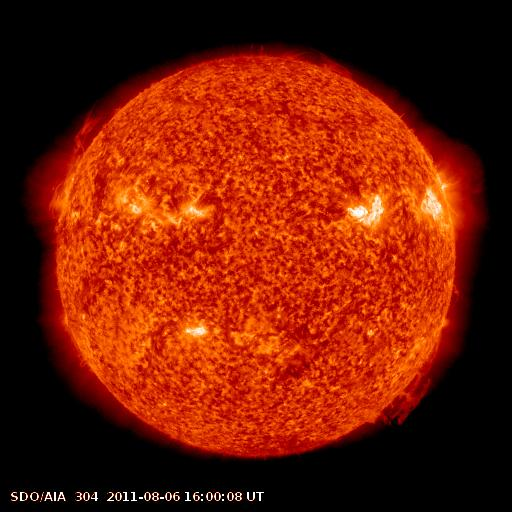prominence: (365, 314, 453, 430), (40, 104, 116, 227), (307, 48, 356, 82)
